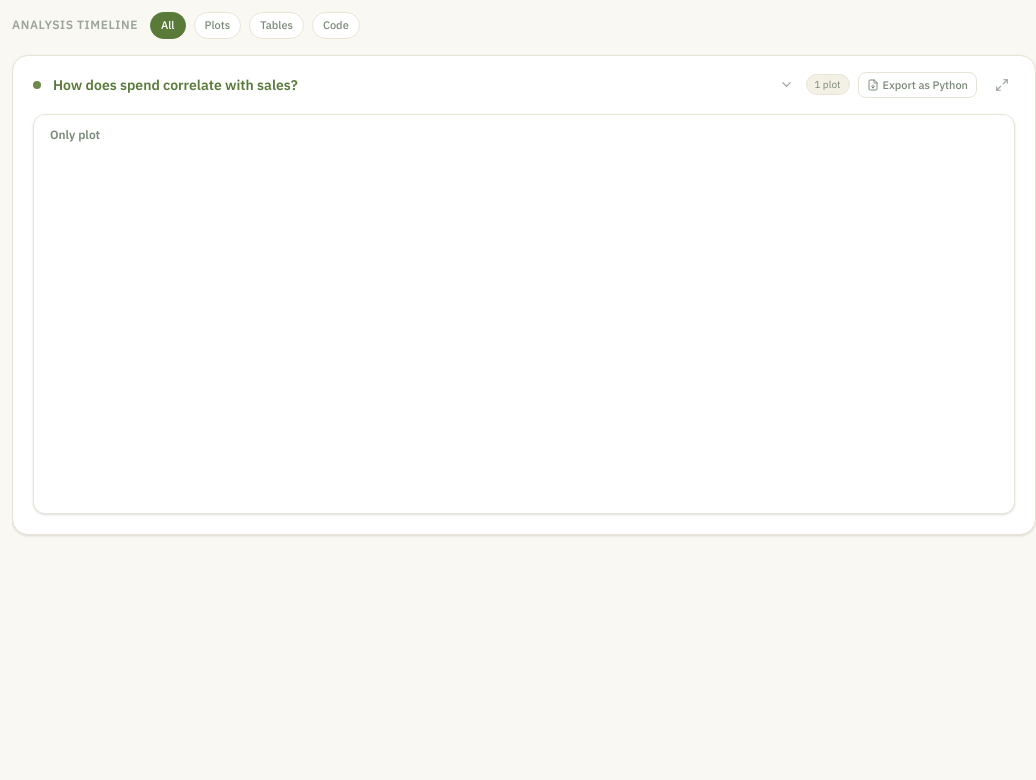
Test: GroupedArtifacts › shows a hint when the filter empties every group
This screenshot has width=1036, height=780.
Click the button "Code" at point(336, 25), box [312, 12, 360, 38]
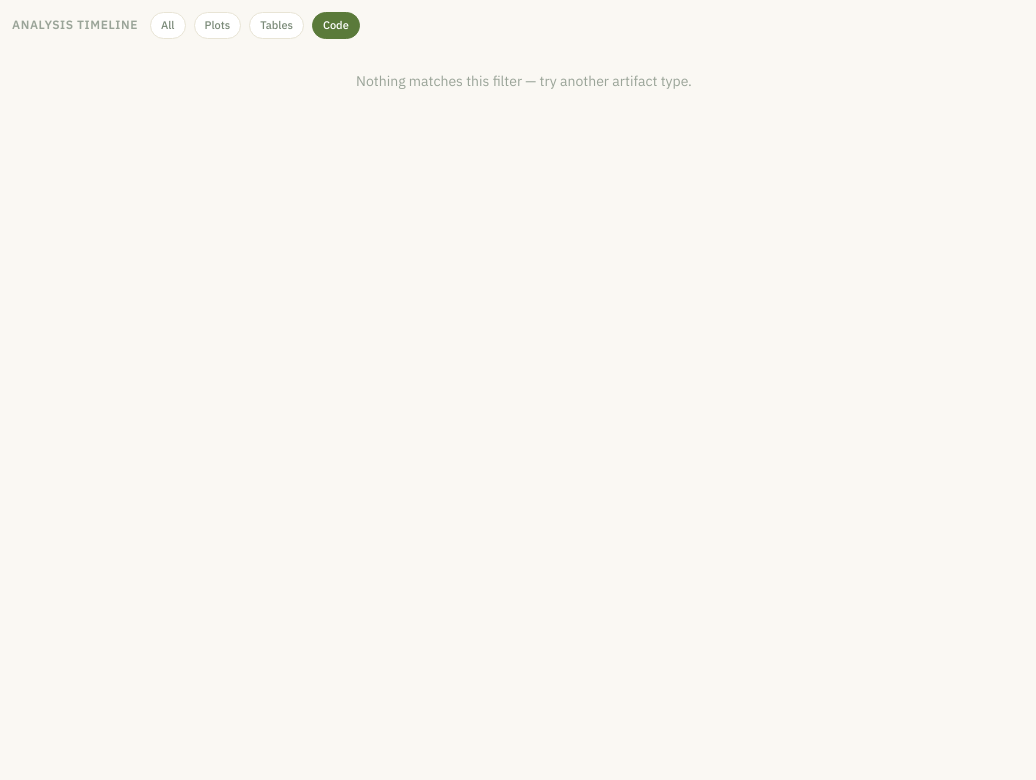
Check: the text "Nothing matches this filter — try another artifact type." is shown, box [356, 72, 692, 90]
